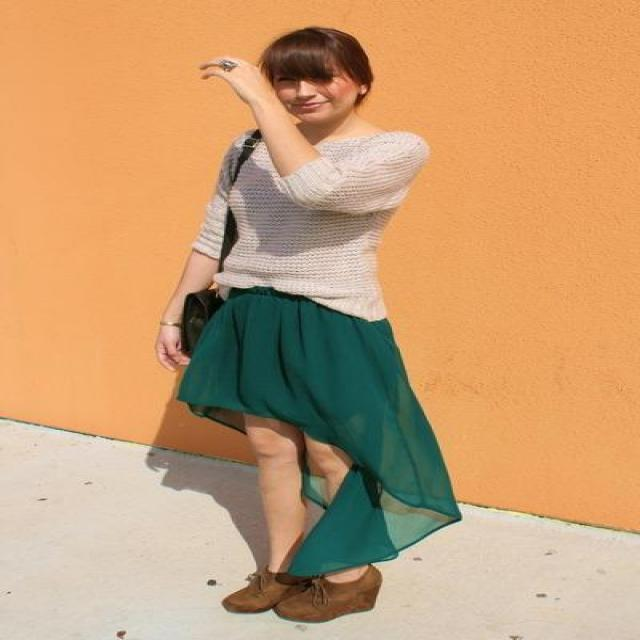bag: (173, 129, 261, 345)
shirt: (192, 131, 427, 319)
shoe: (222, 550, 381, 622)
skirt: (178, 286, 460, 575)
